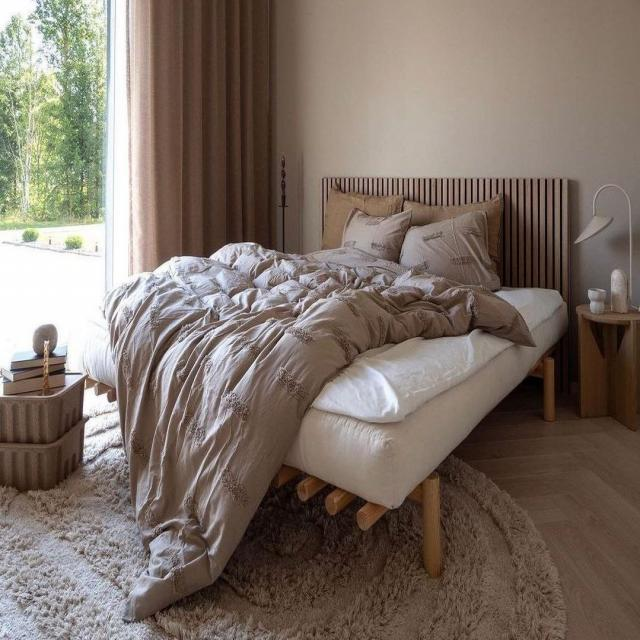bed: (84, 189, 575, 615)
